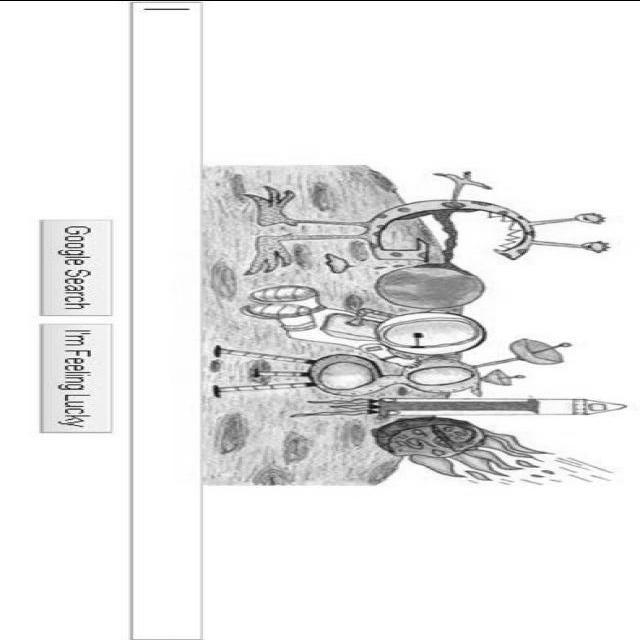Missile: (373, 395, 632, 418)
